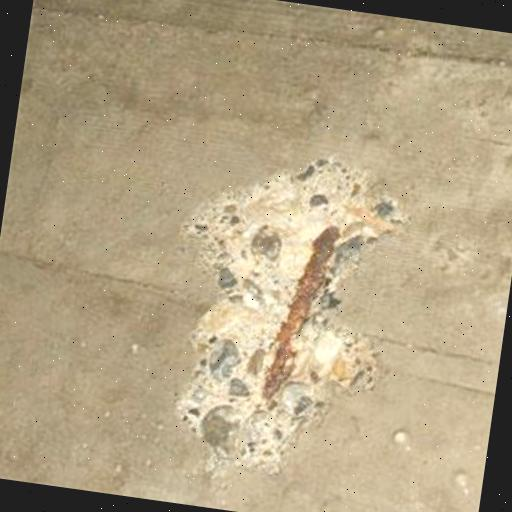spalling: (148, 130, 420, 498)
